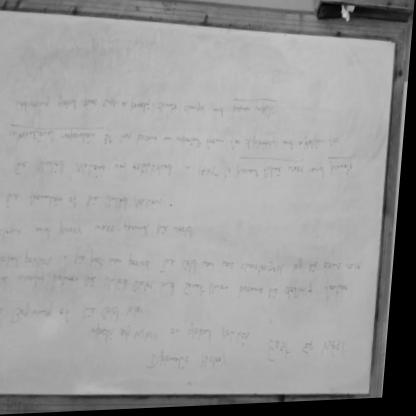Handwritten text: (0, 269, 358, 311), (0, 249, 370, 281), (8, 127, 328, 162), (12, 89, 234, 132), (0, 216, 203, 253), (2, 186, 168, 220), (91, 322, 262, 352), (11, 157, 179, 186), (0, 299, 152, 328), (224, 162, 357, 189), (149, 350, 238, 383), (323, 337, 360, 374), (268, 331, 299, 374)
Whiteboard: (0, 7, 401, 416)
